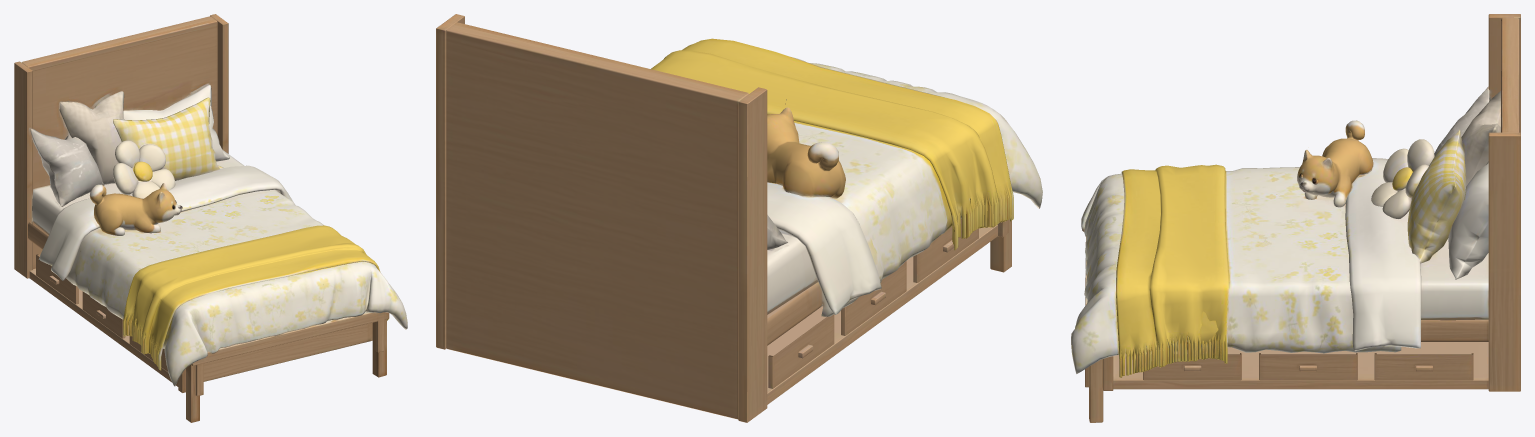
Rendered from bed.glb.
3 renders of one model, left to right at view 1: azimuth 30°, elevation 25°; view 2: azimuth 150°, elevation 25°; view 3: azimuth 270°, elevation 25°, orthographic. The views are drawn at different scales.
Visible parts, largest first — view 1: f68c9ae2_1322_4dcc_b094_c348fd3cbf87; view 2: f68c9ae2_1322_4dcc_b094_c348fd3cbf87; view 3: f68c9ae2_1322_4dcc_b094_c348fd3cbf87.
Boxes of the visible parts, x1,y1,x2,y2 form: f68c9ae2_1322_4dcc_b094_c348fd3cbf87: (14, 14, 407, 422); f68c9ae2_1322_4dcc_b094_c348fd3cbf87: (436, 14, 1042, 422); f68c9ae2_1322_4dcc_b094_c348fd3cbf87: (1071, 14, 1520, 422).
Bounding box in the file's own units: 0.7778 × 0.7095 × 0.9995.
1 material, 1 textured.
